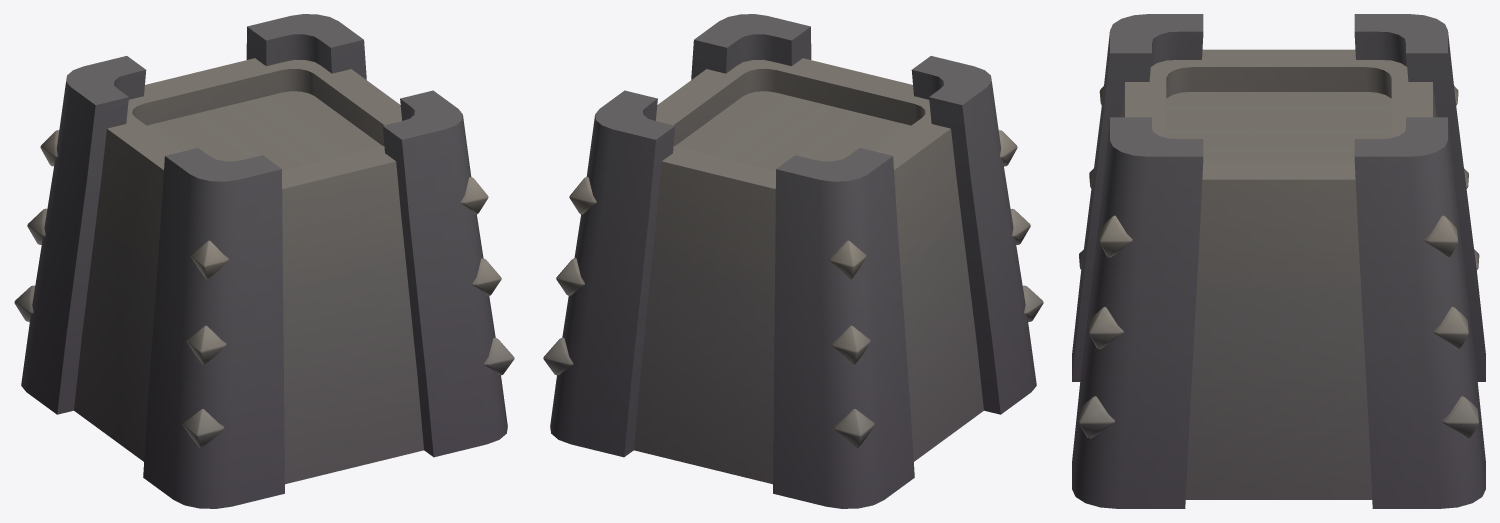
The model's file is mechTower_lvl3.fbx.
The picture shows the model from 3 angles, left to right: view 1: azimuth 30°, elevation 25°; view 2: azimuth 150°, elevation 25°; view 3: azimuth 270°, elevation 25°; orthographic projection. The views are drawn at different scales.
Visible parts, largest first — view 1: canTwr_lvl3; view 2: canTwr_lvl3; view 3: canTwr_lvl3.
Part boxes in pixels (bbox=[...]): canTwr_lvl3: bbox=[14, 14, 514, 508]; canTwr_lvl3: bbox=[543, 14, 1043, 508]; canTwr_lvl3: bbox=[1072, 14, 1485, 508].
Bounding box in the file's own units: 147 × 132 × 147.
